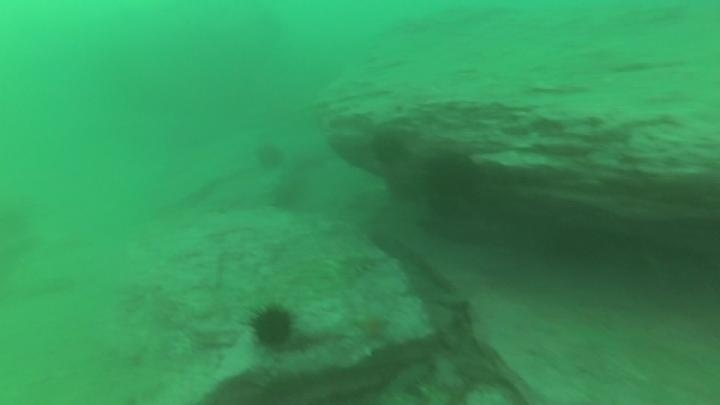echinus: (419, 148, 485, 220), (246, 300, 298, 353), (368, 128, 411, 170), (268, 175, 308, 215), (252, 140, 287, 173)
holothurian: (334, 249, 391, 279)
starfish: (350, 309, 395, 346)
